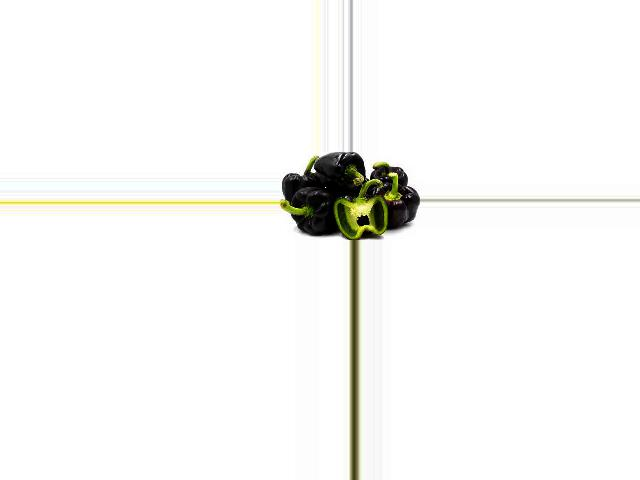bell_pepper: (362, 182, 418, 225)
